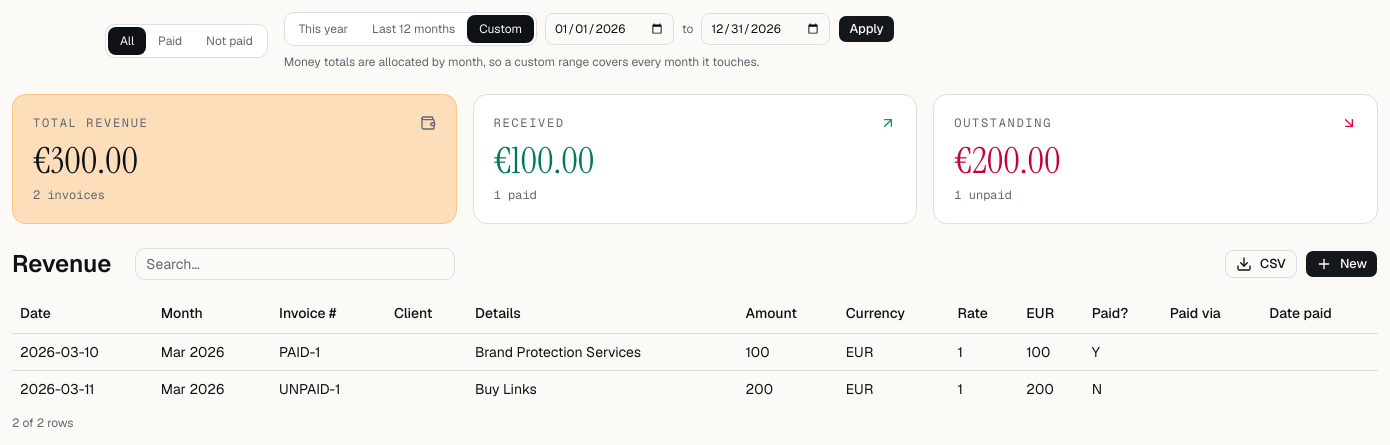
Scenario: Revenue paid filter › narrows the summary cards to match a search
This screenshot has width=1390, height=445.
Check: the text "€300.00" is shown, box [33,137,138,184]
Type "Buy Links" into the field with placeholder "Search..." at point(295, 264), box [135,248,455,280]
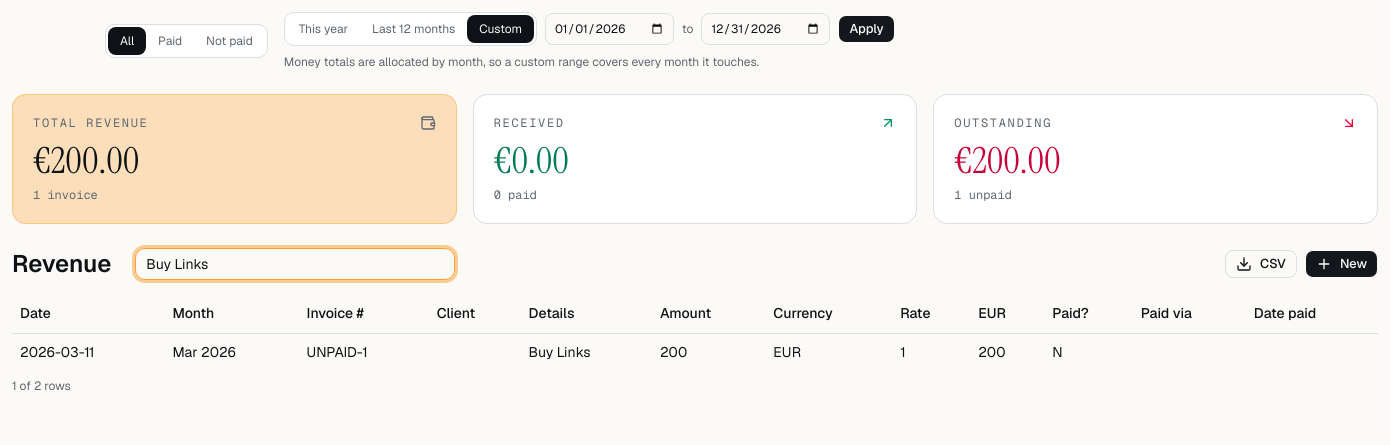
Check: the text "UNPAID-1" is shown, box [298,333,429,370]
Check: the text "€300.00" is gone
Check: the text "€200.00" below "Total Revenue" is shown, box [33,137,139,184]
